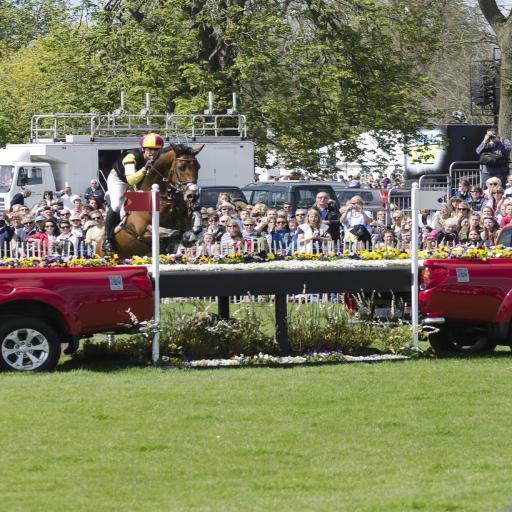horse: (60, 140, 206, 357), (94, 138, 206, 266)
